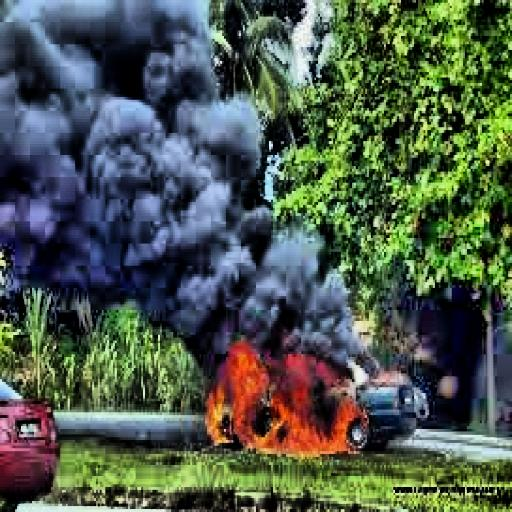fire: (198, 329, 370, 457)
